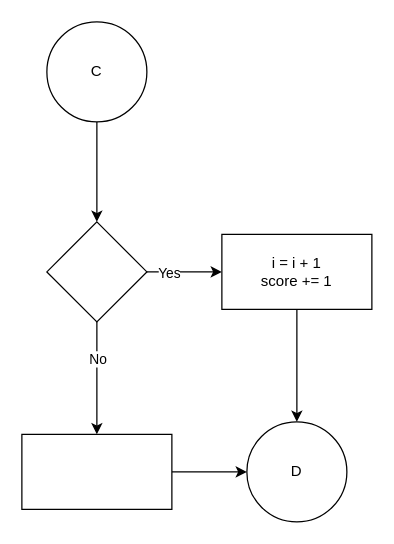
This 394x544 diagram has some shape labels left out. The shapes that lost their labels are listed below. From the top down, each one's box as (x1, y1, x2, y2) in pixels, then its label:
(46, 221, 147, 322): is user_choice correct?
(21, 433, 172, 509): i = i + 1
